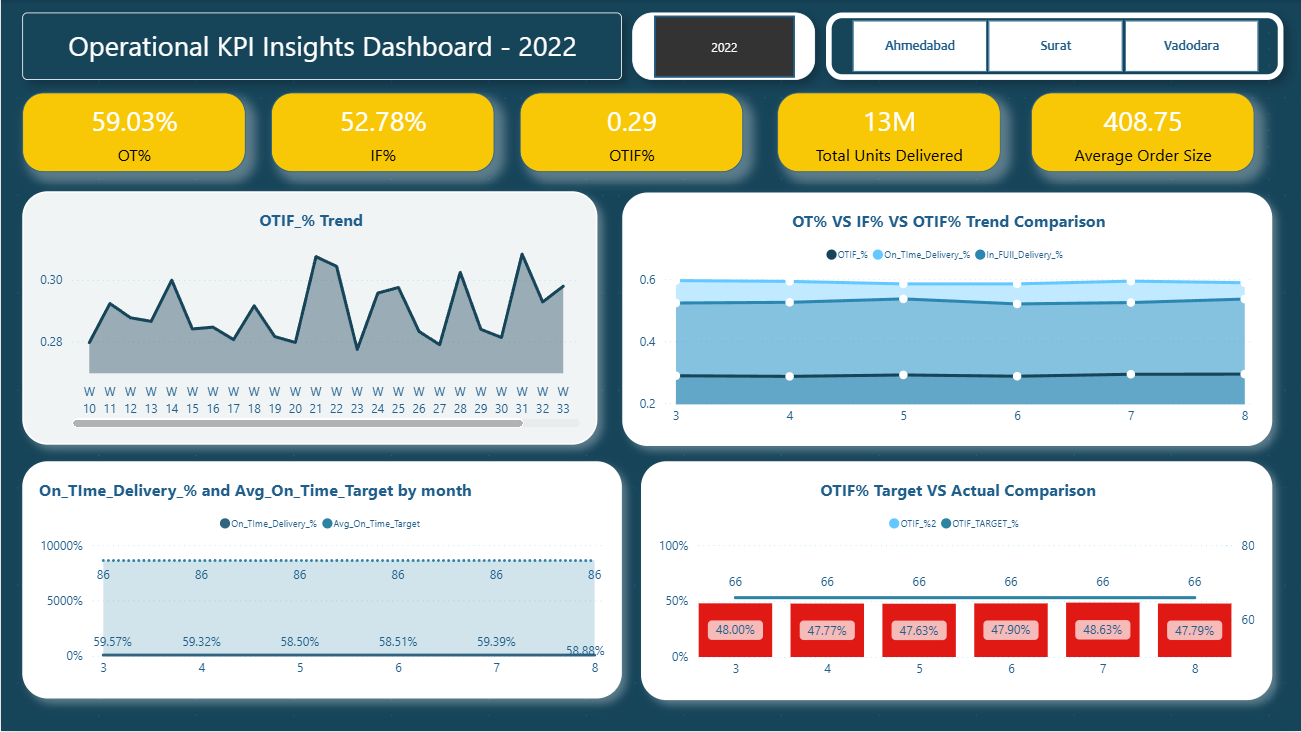

The page's visual inventory and layout, read from the dashboard file:
{"tool":"powerbi","page":{"name":"Page 1","canvas":[1280,720],"ordinal":0},"visuals":[{"type":"lineChart","title":"OTIF_% Trend","fields":{"Y":["fact_orders_aggregate 1.OTIF_%"],"Category":["dim_date 1.year Hierarchy.year","dim_date 1.year Hierarchy.month","dim_date 1.year Hierarchy.week_no","dim_date 1.year Hierarchy.date"]},"box":[20.9,188.3,566.2,249.8],"z":0},{"type":"card","fields":{"Values":["fact_orders_aggregate 1.In_FUll_Delivery_%"]},"box":[265.8,91.1,220.3,78.8],"z":1000},{"type":"lineChart","title":"OT% VS IF% VS OTIF% Trend Comparison","fields":{"Y":["fact_orders_aggregate 1.OTIF_%","fact_orders_aggregate 1.On_TIme_Delivery_%","fact_orders_aggregate 1.In_FUll_Delivery_%"],"Category":["dim_date 1.year Hierarchy.year","dim_date 1.year Hierarchy.month","dim_date 1.year Hierarchy.week_no","dim_date 1.year Hierarchy.date"]},"box":[611.7,189.5,640,249.8],"z":2000},{"type":"card","fields":{"Values":["fact_orders_aggregate 1.On_TIme_Delivery_%"]},"box":[20.9,91.1,220.3,78.8],"z":3000},{"type":"card","fields":{"Values":["fact_orders_aggregate 1.OTIF_%"]},"box":[510.8,91.1,220.3,78.8],"z":4000},{"type":"card","fields":{"Values":["dim_customers 1.Report Title"]},"box":[20.9,12.3,590.8,66.5],"z":5000},{"type":"slicer","fields":{"Values":["dim_date 1.year"]},"box":[621.5,12.3,179.7,66.5],"z":6000},{"type":"lineChart","fields":{"Category":["dim_date 1.year Hierarchy.year","dim_date 1.year Hierarchy.month","dim_date 1.year Hierarchy.week_no","dim_date 1.year Hierarchy.date"],"Y":["fact_orders_aggregate 1.On_TIme_Delivery_%","dim_targets_orders 1.Avg_On_Time_Target"]},"box":[20.9,454.2,590.8,233.8],"z":7000},{"type":"slicer","fields":{"Values":["dim_customers 1.city"]},"box":[812.3,12.3,450.5,66.5],"z":8000},{"type":"lineClusteredColumnComboChart","title":"OTIF% Target VS Actual Comparison","fields":{"Category":["dim_date 1.year Hierarchy.year","dim_date 1.year Hierarchy.month","dim_date 1.year Hierarchy.week_no","dim_date 1.year Hierarchy.date"],"Y":["fact_orders_aggregate 1.OTIF_%2"],"Y2":["_Measures.OTIF_TARGET_%"]},"box":[630.2,454.2,621.5,235.1],"z":9000},{"type":"card","fields":{"Values":["_Measures.Total Units Delivered"]},"box":[764.3,91.1,220.3,78.8],"z":10000},{"type":"card","fields":{"Values":["_Measures.Average Order Size"]},"box":[1014.2,91.1,220.3,78.8],"z":11000}]}

Visuals, with their boxes in screenshot pixels (x1, y1, x2, y2), scaled from the page's 1280x720 canvas onto the 1301x732 screenshot:
"OTIF_% Trend" lineChart: bbox(21, 191, 597, 445)
card - fact_orders_aggregate 1.In_FUll_Delivery_%: bbox(270, 93, 494, 173)
"OT% VS IF% VS OTIF% Trend Comparison" lineChart: bbox(622, 193, 1272, 447)
card - fact_orders_aggregate 1.On_TIme_Delivery_%: bbox(21, 93, 245, 173)
card - fact_orders_aggregate 1.OTIF_%: bbox(519, 93, 743, 173)
card - dim_customers 1.Report Title: bbox(21, 13, 622, 80)
slicer - dim_date 1.year: bbox(632, 13, 814, 80)
lineChart - dim_date 1.year Hierarchy.year x dim_date 1.year Hierarchy.month: bbox(21, 462, 622, 699)
slicer - dim_customers 1.city: bbox(826, 13, 1284, 80)
"OTIF% Target VS Actual Comparison" lineClusteredColumnComboChart: bbox(641, 462, 1272, 701)
card - _Measures.Total Units Delivered: bbox(777, 93, 1001, 173)
card - _Measures.Average Order Size: bbox(1031, 93, 1255, 173)
